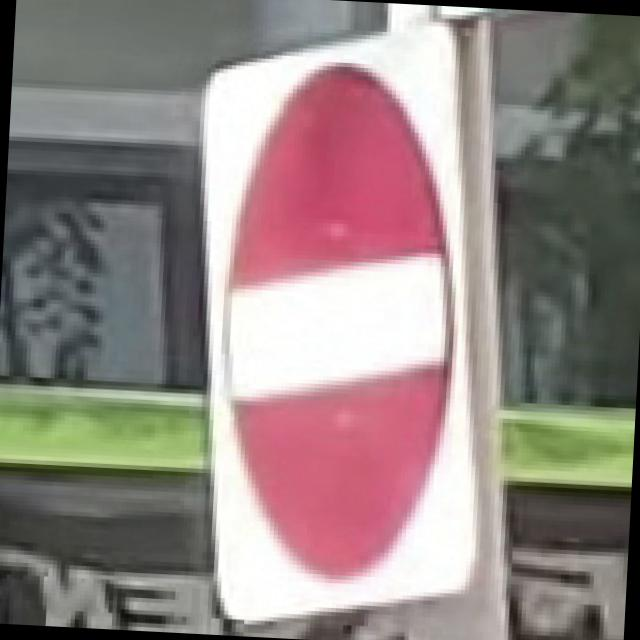noentry_sign: (165, 6, 516, 636)
